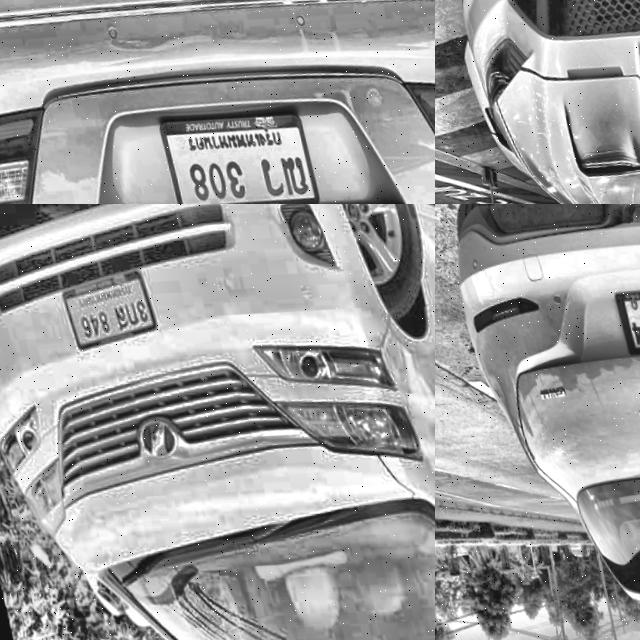license-plate: (149, 89, 318, 204), (49, 254, 159, 359), (609, 272, 640, 358)
